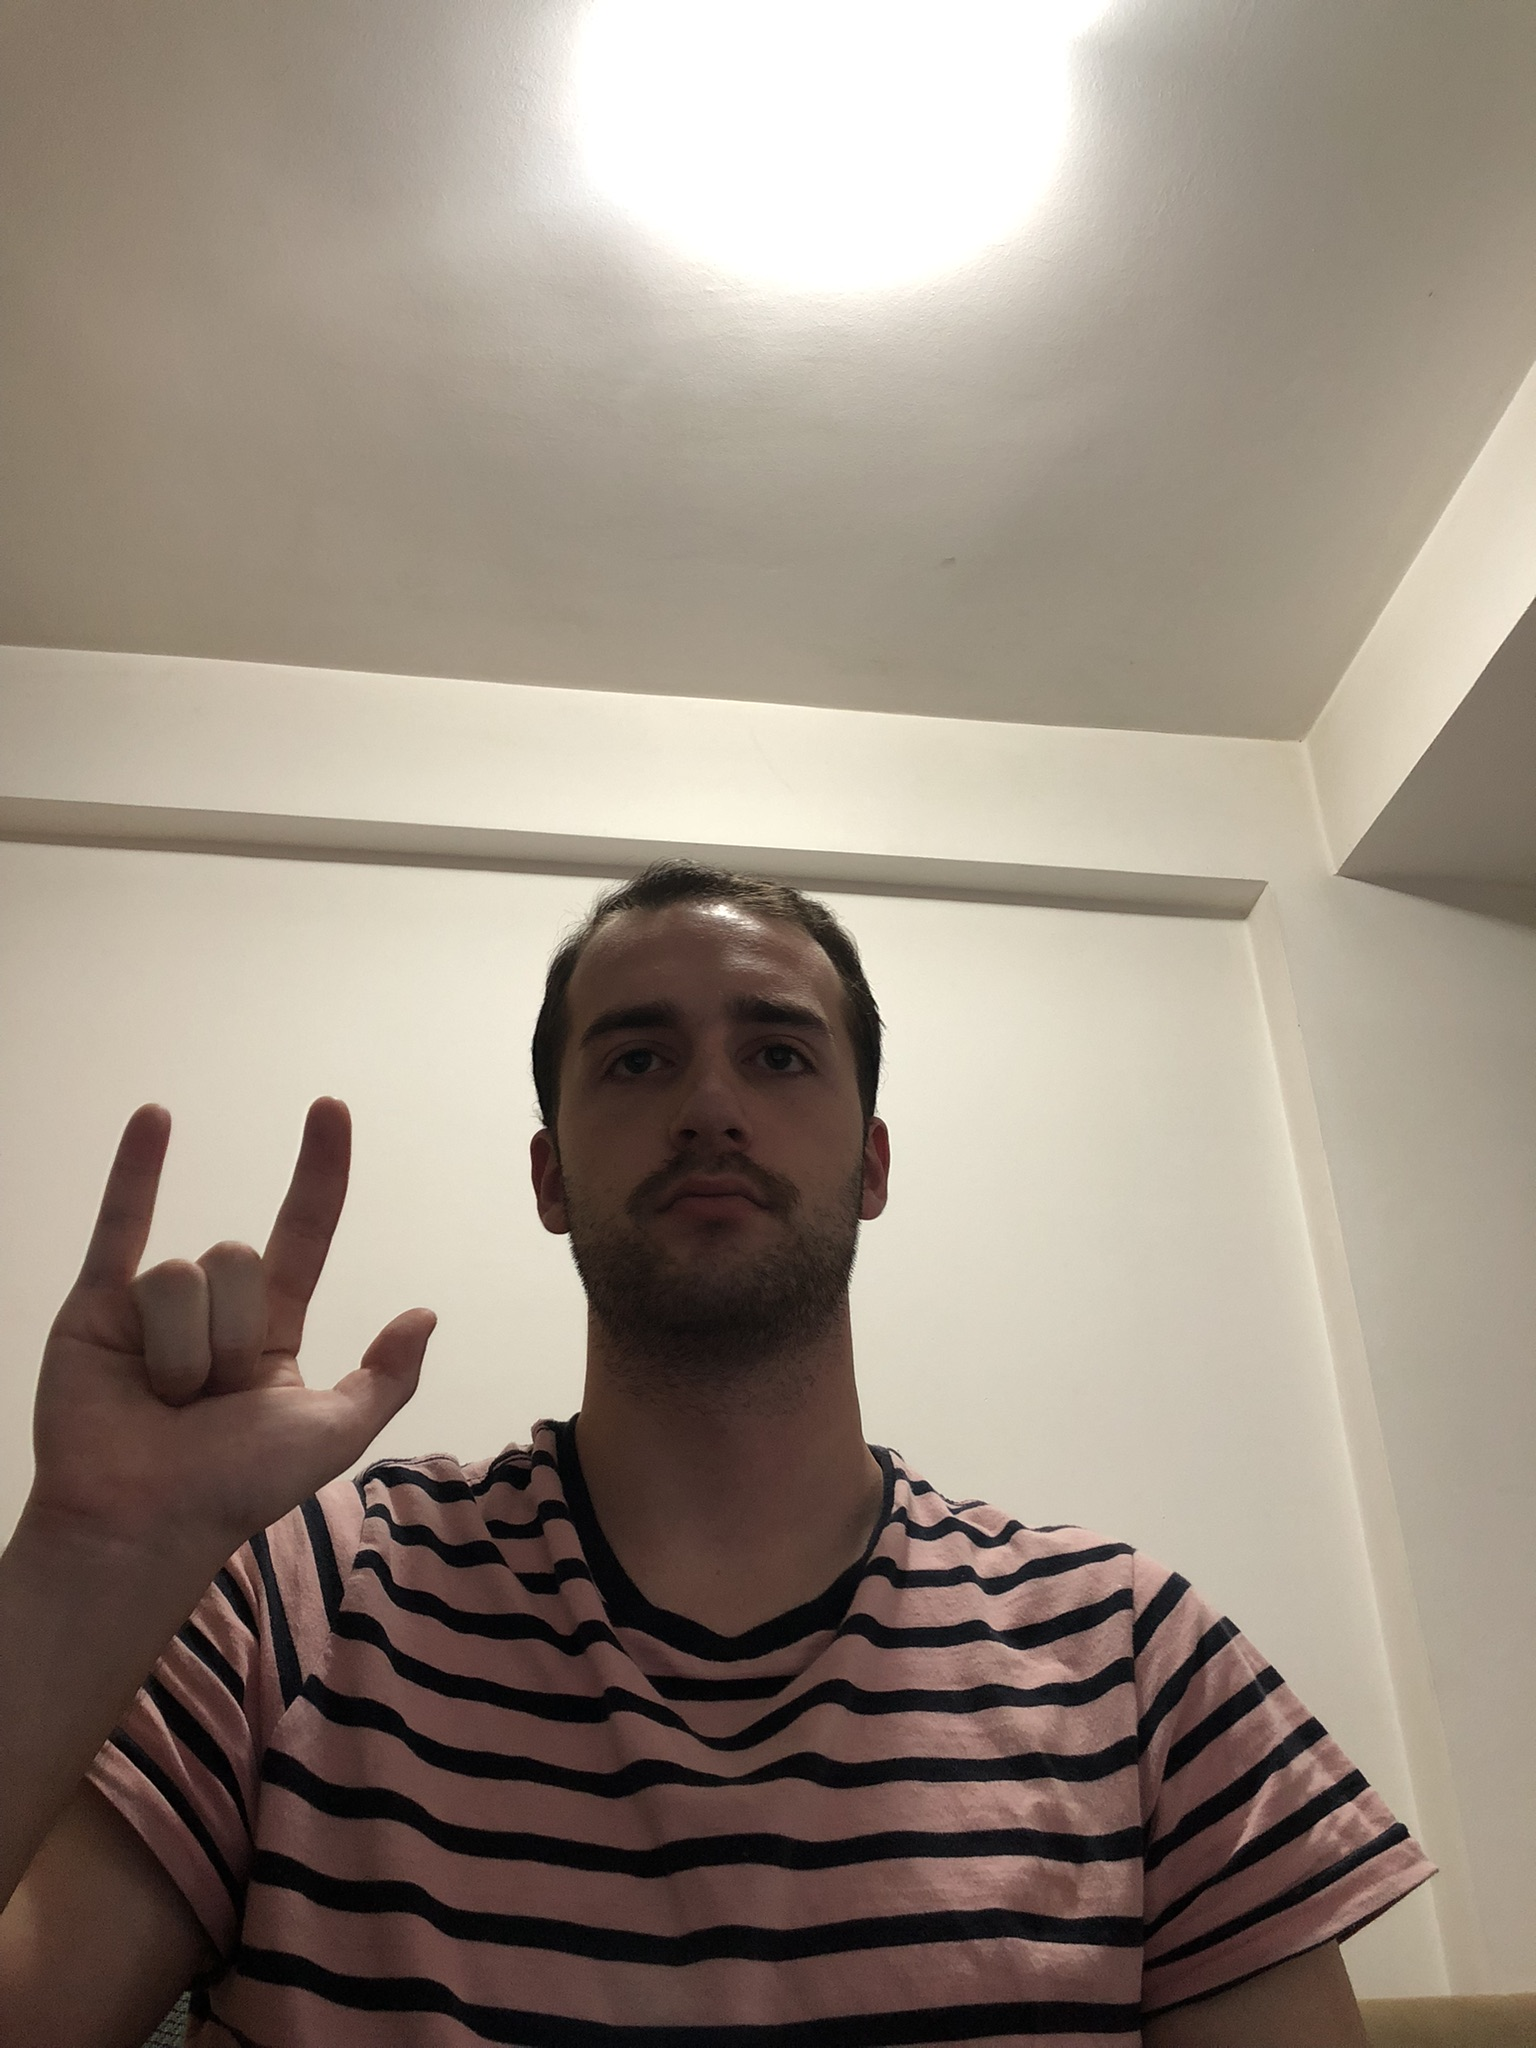I Love You: (10, 1080, 452, 1572)
